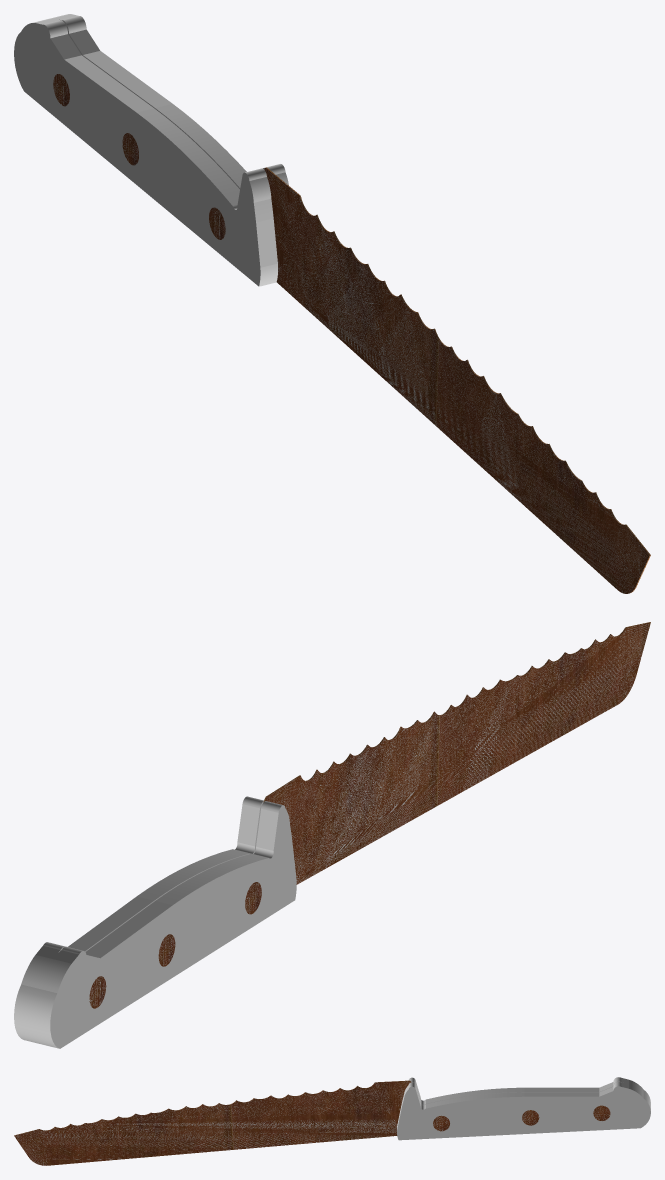
The model's file is model_scale.obj.
3 renders of one model, top to bottom at view 1: azimuth 30°, elevation 25°; view 2: azimuth 150°, elevation 25°; view 3: azimuth 270°, elevation 25°, orthographic. The views are drawn at different scales.
Parts seen in each view (by area): view 1: mesh23_mesh23-geometry, mesh15_mesh15-geometry, mesh4_mesh4-geometry; view 2: mesh23_mesh23-geometry, mesh15_mesh15-geometry, mesh4_mesh4-geometry; view 3: mesh23_mesh23-geometry, mesh4_mesh4-geometry, mesh15_mesh15-geometry, mesh1_mesh1-geometry, mesh2_mesh2-geometry, mesh3_mesh3-geometry.
Boxes of the visible parts, x1,y1,x2,y2 form: mesh23_mesh23-geometry: (264, 167, 650, 593); mesh15_mesh15-geometry: (14, 18, 277, 286); mesh4_mesh4-geometry: (50, 14, 288, 188); mesh23_mesh23-geometry: (263, 622, 650, 884); mesh15_mesh15-geometry: (32, 801, 296, 1048); mesh4_mesh4-geometry: (14, 796, 263, 1043); mesh23_mesh23-geometry: (14, 1080, 411, 1165); mesh4_mesh4-geometry: (397, 1082, 650, 1140); mesh15_mesh15-geometry: (408, 1077, 650, 1105); mesh1_mesh1-geometry: (593, 1105, 610, 1120); mesh2_mesh2-geometry: (522, 1110, 539, 1125); mesh3_mesh3-geometry: (433, 1115, 449, 1131).
Bounding box in the file's own units: 0.0078 × 0.034 × 0.2308.
